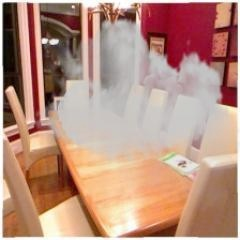smoke: (73, 61, 203, 138)
